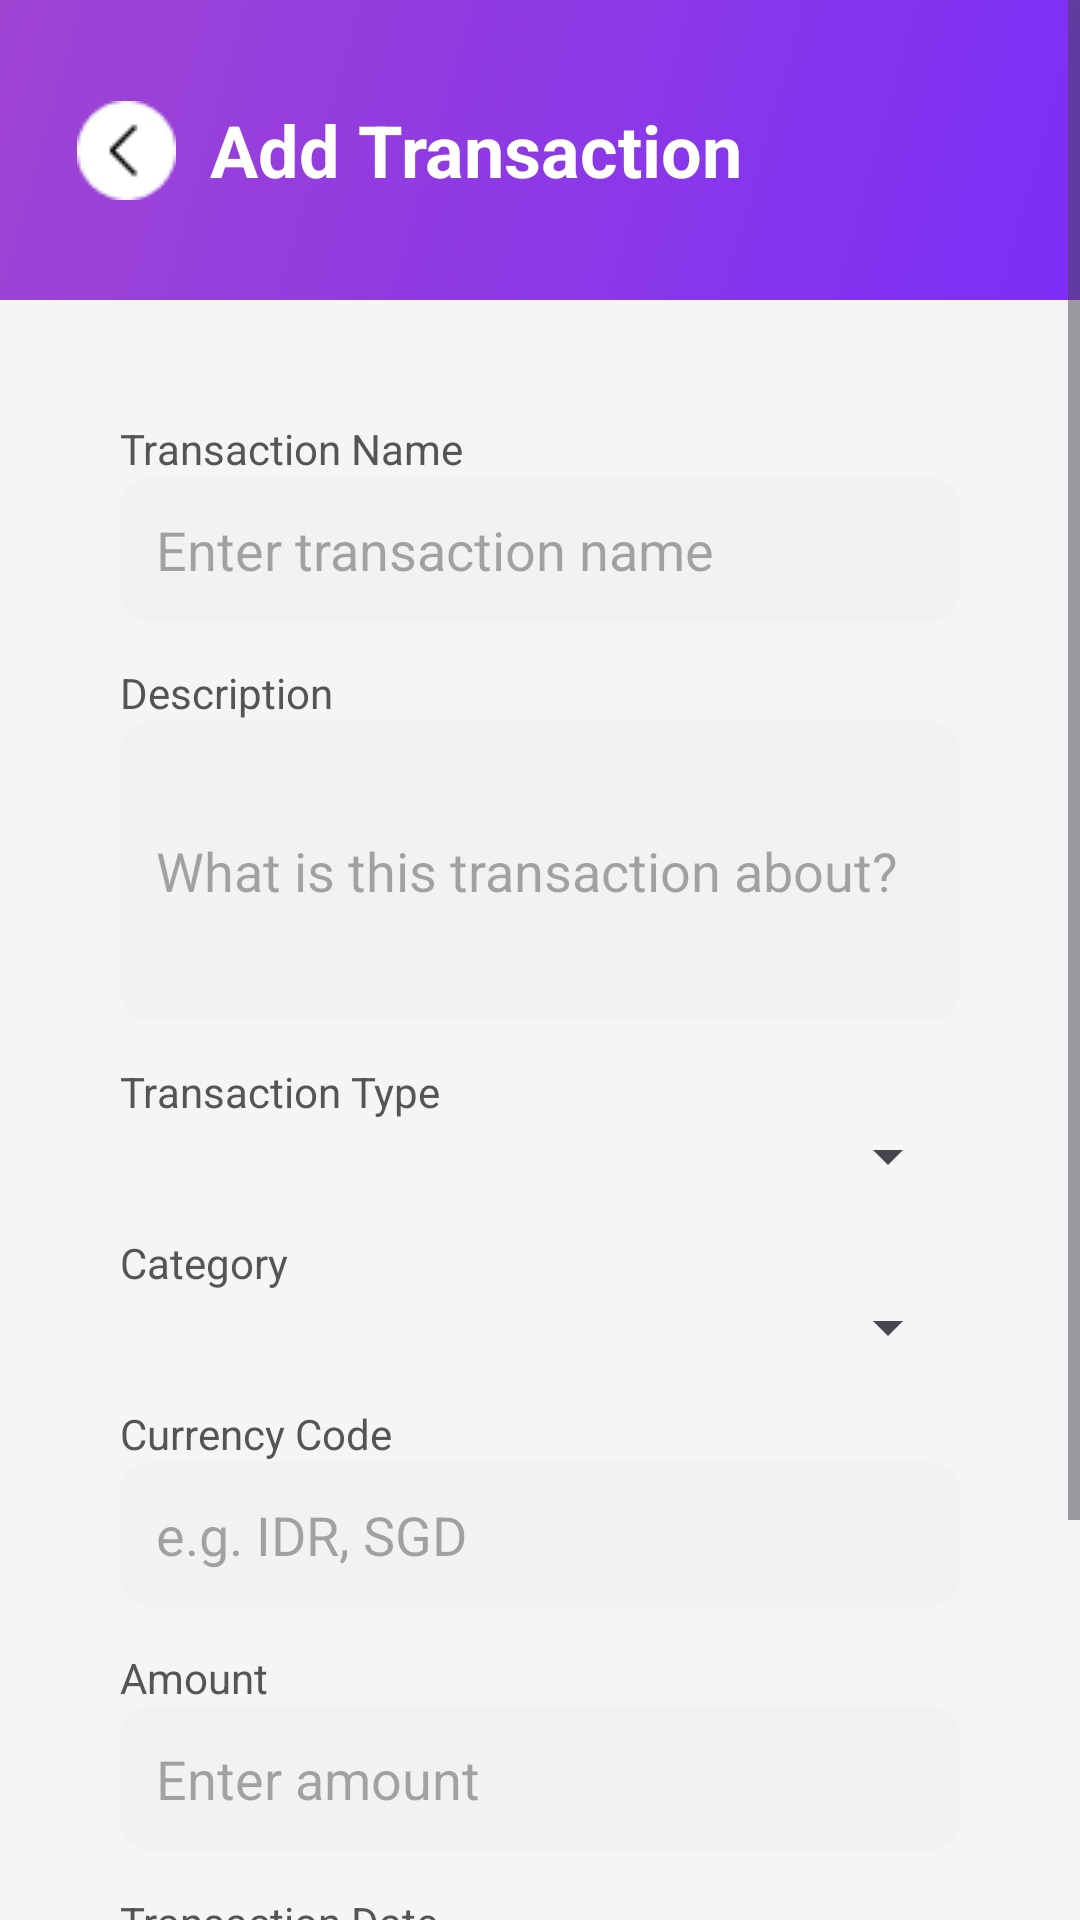

Screen size 1080 × 1920. Icon name, then its box in pixels as rect(x1, y1, x2, y2):
back: rect(77, 101, 176, 200)
